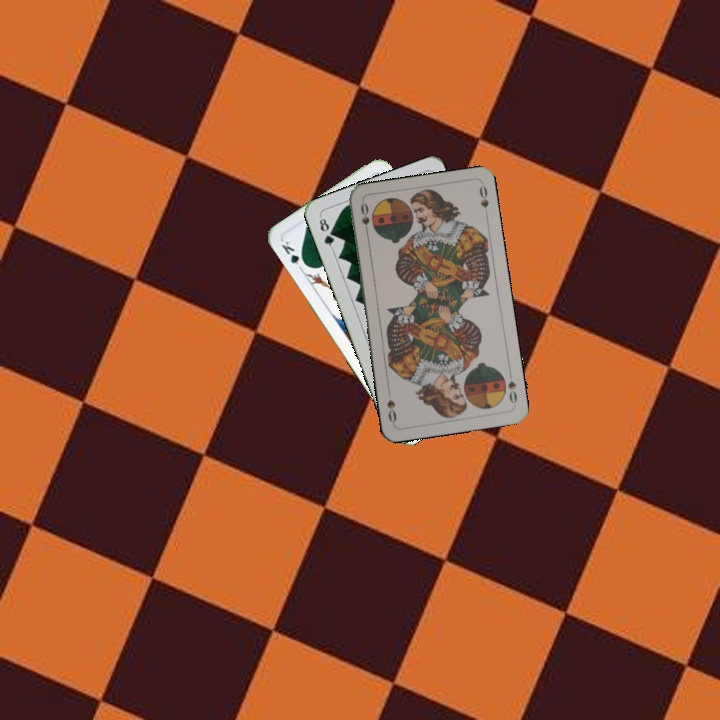G8: (315, 213, 337, 252)
GK: (277, 237, 309, 269)
SO: (356, 198, 372, 239), (504, 367, 520, 406)
